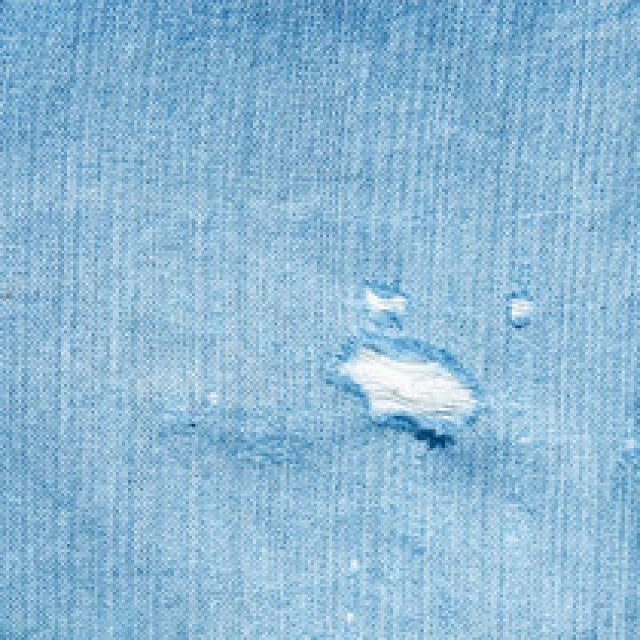Hole: (337, 335, 480, 448), (362, 286, 407, 326), (506, 290, 536, 328)
